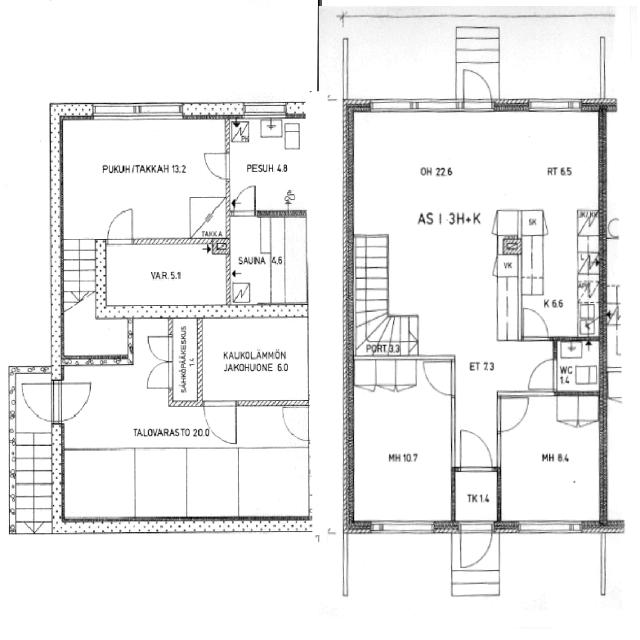door: (196, 307, 311, 403), (456, 520, 496, 570), (20, 378, 59, 424), (456, 425, 494, 472), (54, 378, 94, 422), (460, 64, 496, 110), (202, 399, 238, 445), (419, 356, 457, 398), (104, 204, 139, 247), (496, 392, 531, 434), (524, 355, 559, 394), (519, 303, 552, 343), (201, 147, 232, 181), (143, 357, 173, 391), (232, 182, 259, 216), (145, 333, 173, 363)
window: (92, 101, 183, 123), (368, 516, 438, 540), (515, 516, 586, 538), (527, 96, 583, 115), (368, 96, 418, 116), (242, 100, 293, 118)
zone: (59, 115, 232, 226), (348, 356, 456, 526), (498, 394, 604, 525), (193, 310, 312, 403), (95, 240, 231, 314), (228, 115, 308, 212), (227, 214, 307, 305), (235, 445, 311, 519), (60, 449, 136, 522), (134, 444, 188, 520), (186, 448, 238, 518), (61, 316, 134, 364), (452, 467, 500, 525), (554, 339, 602, 395), (173, 318, 201, 404), (280, 404, 310, 442)
